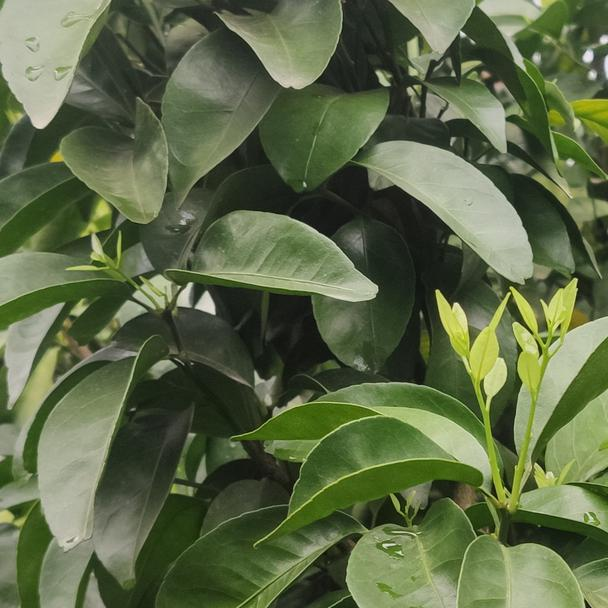shoot: (441, 295, 516, 428), (512, 285, 584, 407)
